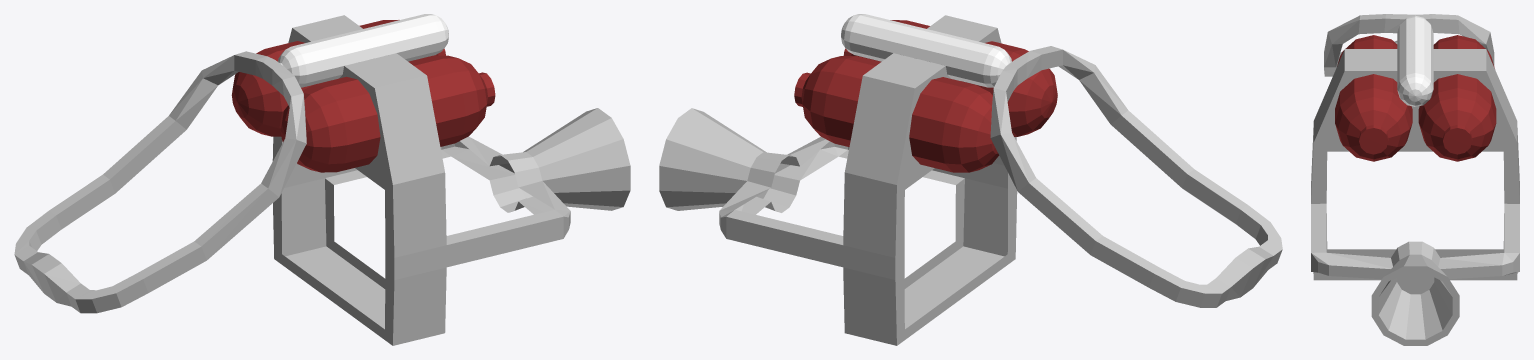
Rendered from rocket.obj.
3 views of the same model, side by side, from view 1: azimuth 30°, elevation 25°; view 2: azimuth 150°, elevation 25°; view 3: azimuth 270°, elevation 25° (orthographic). The views are drawn at different scales.
Visible parts, largest first — view 1: OilTank002, Mesh001, Mesh002; view 2: OilTank002, Mesh001, Mesh002; view 3: OilTank002, Mesh001, Mesh002.
Part boxes in pixels (x1,y1,x2,y2): OilTank002: (14,15,630,345); Mesh001: (231,20,495,172); Mesh002: (278,14,448,87); OilTank002: (659,15,1282,345); Mesh001: (794,20,1057,172); Mesh002: (841,14,1011,87); OilTank002: (1311,14,1519,345); Mesh001: (1335,35,1496,161); Mesh002: (1397,15,1433,106).
Bounding box in the file's own units: 4.37 × 1.93 × 1.61.
